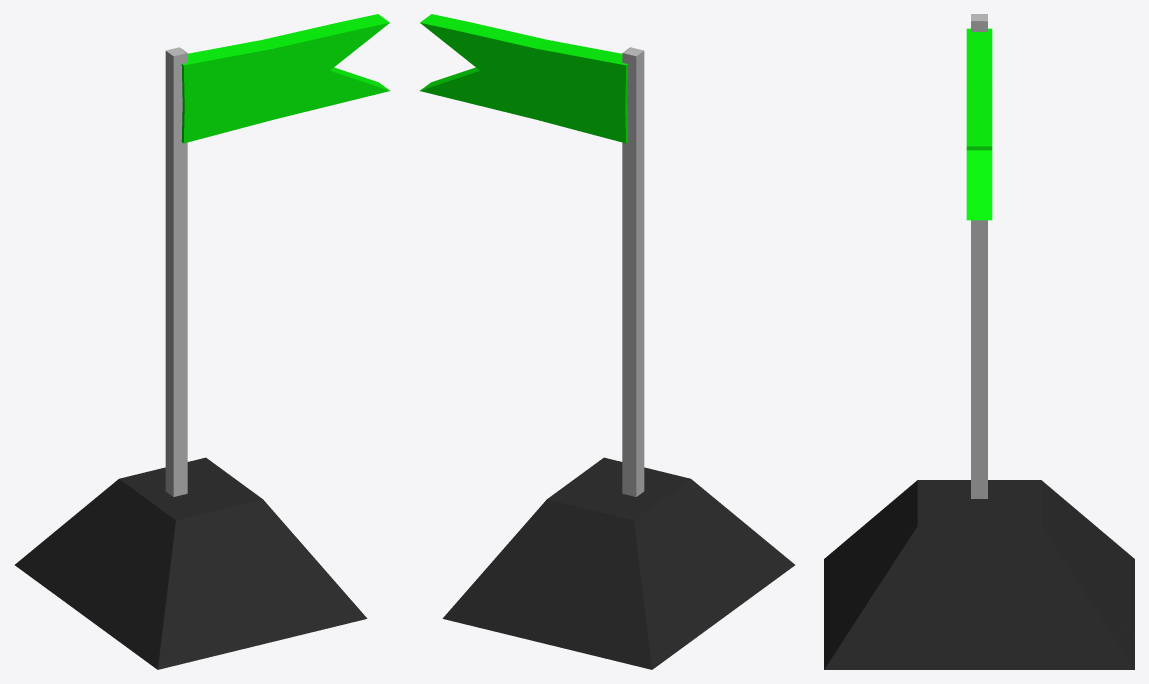
File: goal.obj
3 views of the same model, side by side, from view 1: azimuth 30°, elevation 25°; view 2: azimuth 150°, elevation 25°; view 3: azimuth 270°, elevation 25° (orthographic). The views are drawn at different scales.
Visible parts, largest first — view 1: goal_post.001; view 2: goal_post.001; view 3: goal_post.001.
Part boxes in pixels (x1,y1,x2,y2): goal_post.001: (15, 14, 389, 669); goal_post.001: (420, 14, 794, 669); goal_post.001: (824, 14, 1134, 669).
Bounding box in the file's own units: 0.9867 × 1.72 × 0.8207.
1 material, 1 textured.
